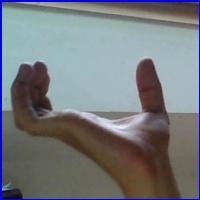B: (7, 47, 177, 170)
